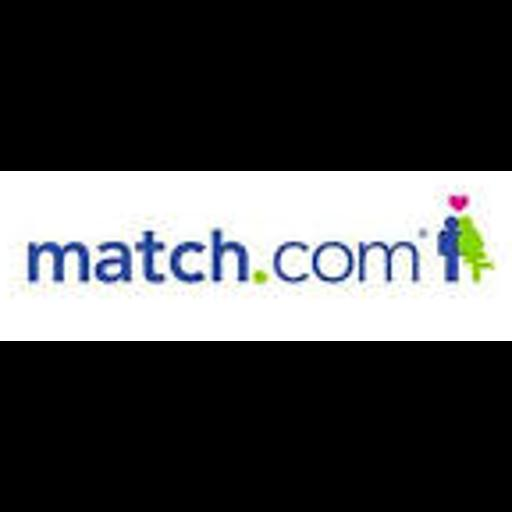Match: (0, 171, 512, 341)
